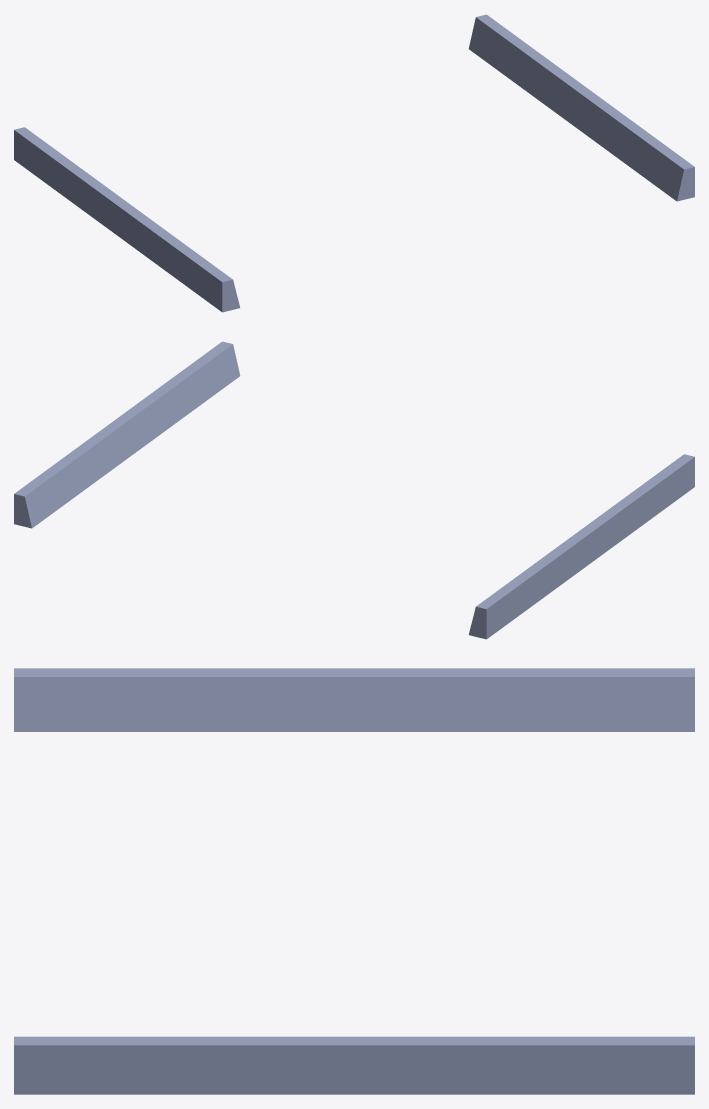
Rendered from road-side-barrier.glb.
The picture shows the model from 3 angles, top to bottom: view 1: azimuth 30°, elevation 25°; view 2: azimuth 150°, elevation 25°; view 3: azimuth 270°, elevation 25°; orthographic projection. The views are drawn at different scales.
Visible parts, largest first — view 1: road-side-barrier; view 2: road-side-barrier; view 3: road-side-barrier.
Part boxes in pixels (left/top/right/bottom): road-side-barrier: left=14, top=14, right=694, bottom=312; road-side-barrier: left=14, top=341, right=694, bottom=639; road-side-barrier: left=14, top=668, right=694, bottom=1094.
Size of the model in its own units: 1.31 by 0.08 by 1.
Materials: 1 (1 with a texture image).
